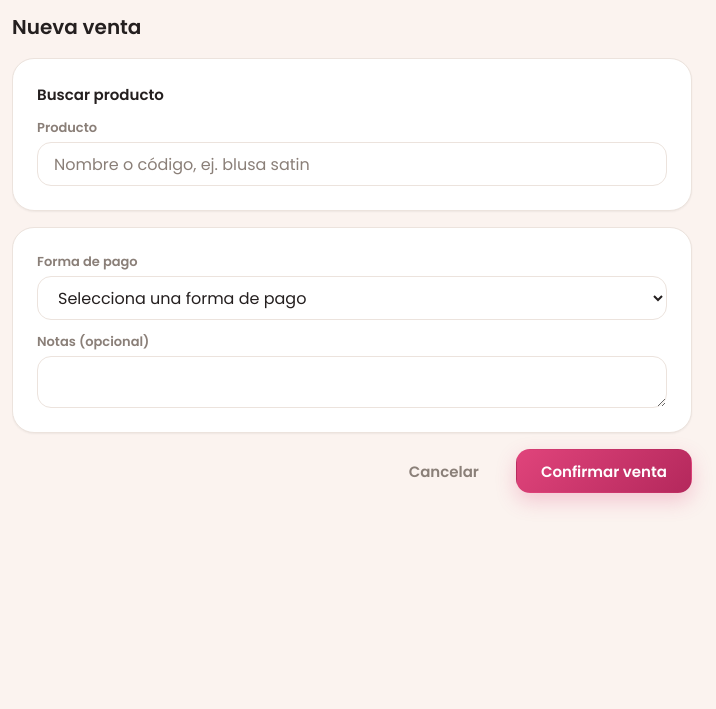
Scenario: SaleFormPage › con muchas combinaciones, solo muestra los colores de la talla elegida y no pierde lo ya marcado en otra talla
Type "blusa satin" into the field labelled "Producto" at point(352, 164), box [37,142,667,186]
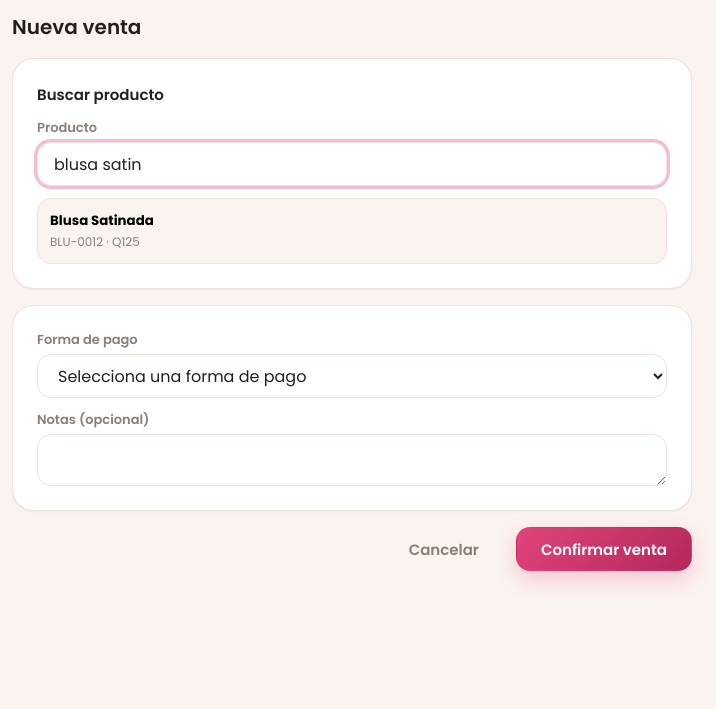
Click the button "Blusa Satinada BLU-0012 · Q125" at point(102, 220), box [37,198,667,264]
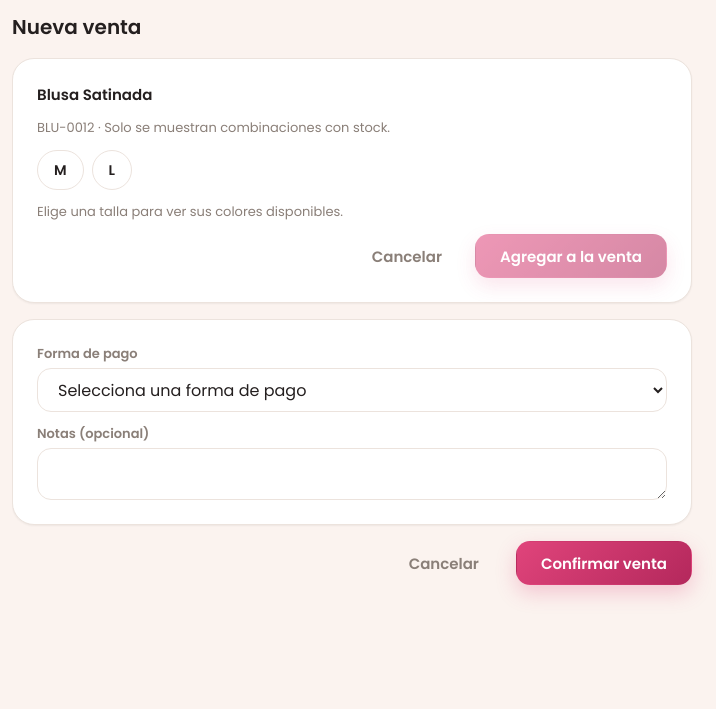
Click the button "M" at point(60, 170), box [37,150,84,190]
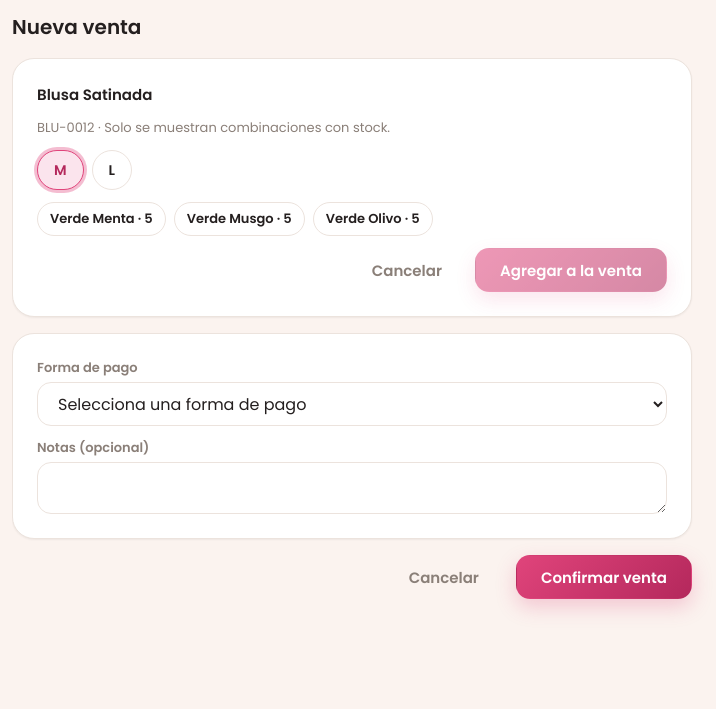
Now the button "L" is shown, box [92,150,132,190]
Now the button "Verde Menta · 5" is shown, box [37,202,166,236]
Click the button "Verde Musgo · 5" at point(239, 219), box [174,202,305,236]
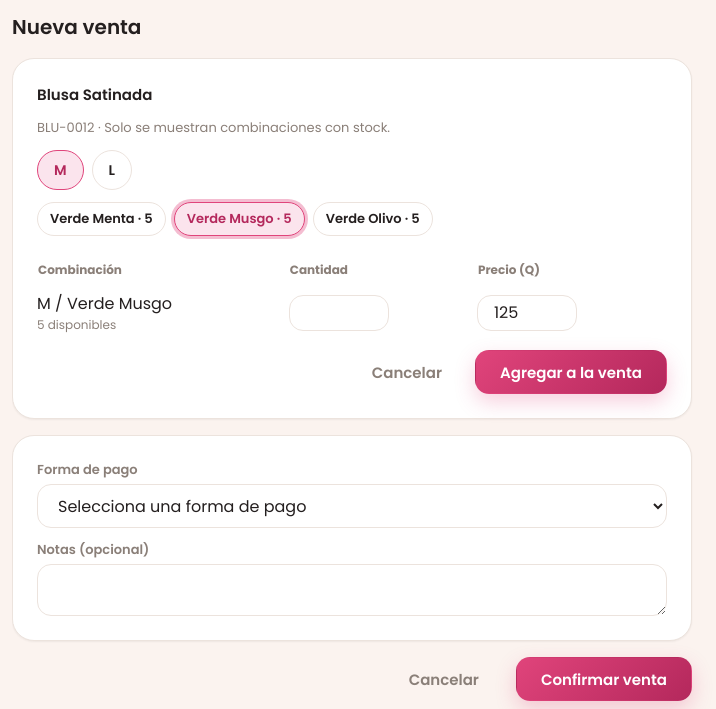
Now the number of rows is 2, box [37,260,667,287]; [37,287,667,338]
# Cambiar de talla no debe perder lo ya marcado en M.
Click the button "L" at point(112, 170), box [92,150,132,190]
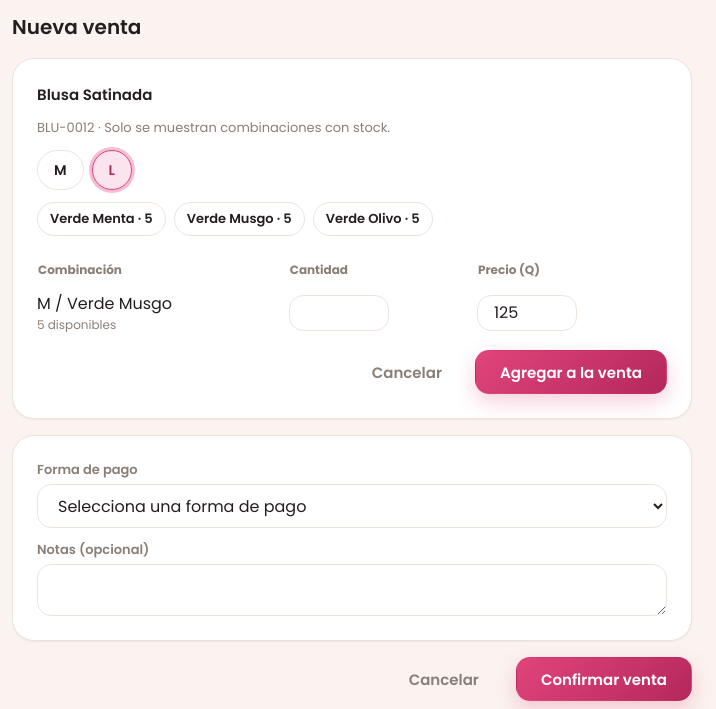
Now the button "Verde Olivo · 5" is shown
Click the button "Verde Olivo · 5" at point(373, 219), box [313,202,433,236]
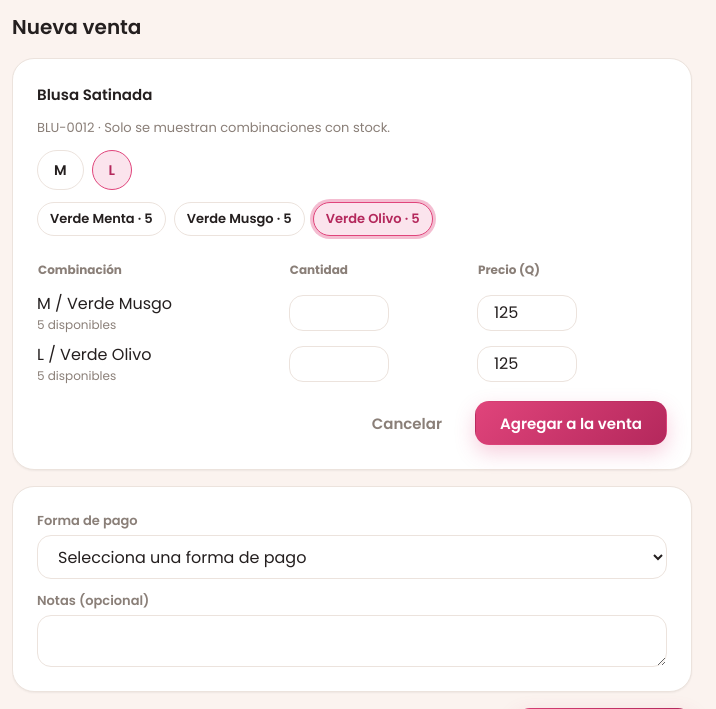
Now the number of rows is 3, box [37,260,667,287]; [37,287,667,338]; [37,338,667,389]
